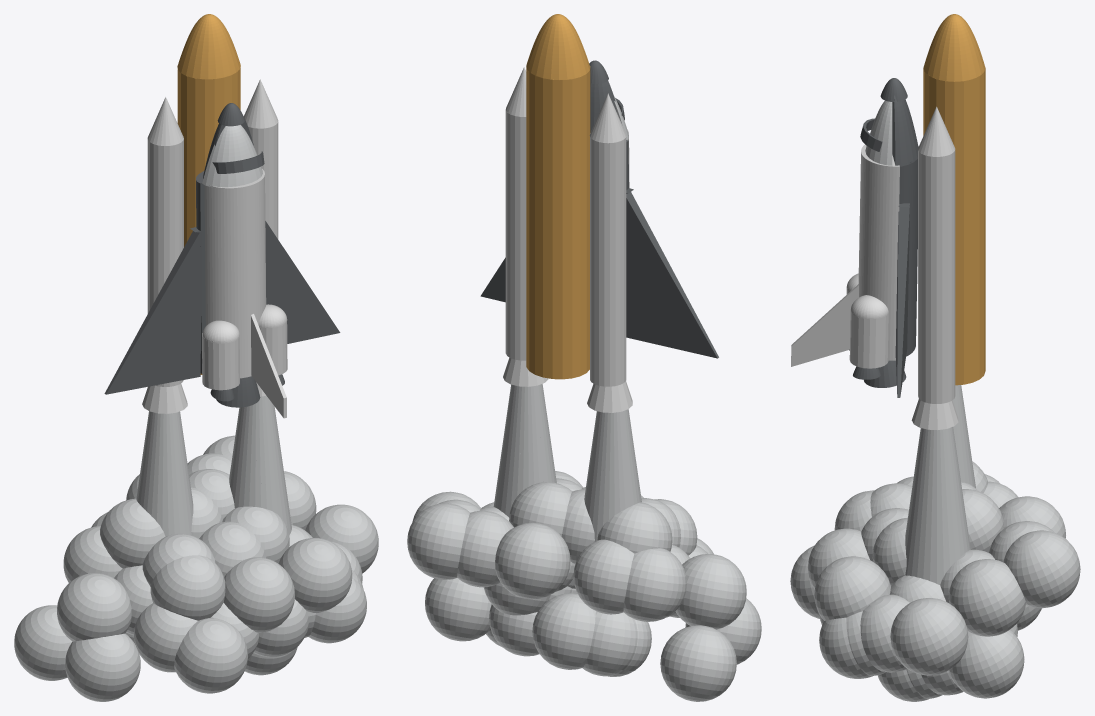
The model's file is Shuttle.glb.
The picture shows the model from 3 angles, left to right: view 1: azimuth 30°, elevation 25°; view 2: azimuth 150°, elevation 25°; view 3: azimuth 270°, elevation 25°; orthographic projection. The views are drawn at different scales.
Visible parts, largest first — view 1: Mesh_Mesh_head_geo.001_lambert2SG.001; view 2: Mesh_Mesh_head_geo.001_lambert2SG.001; view 3: Mesh_Mesh_head_geo.001_lambert2SG.001.
Part boxes in pixels (<box>): Mesh_Mesh_head_geo.001_lambert2SG.001: <box>14,14,378,701</box>; Mesh_Mesh_head_geo.001_lambert2SG.001: <box>407,14,761,701</box>; Mesh_Mesh_head_geo.001_lambert2SG.001: <box>790,14,1080,701</box>.
Size of the model in its own units: 101 by 189 by 74.48.
